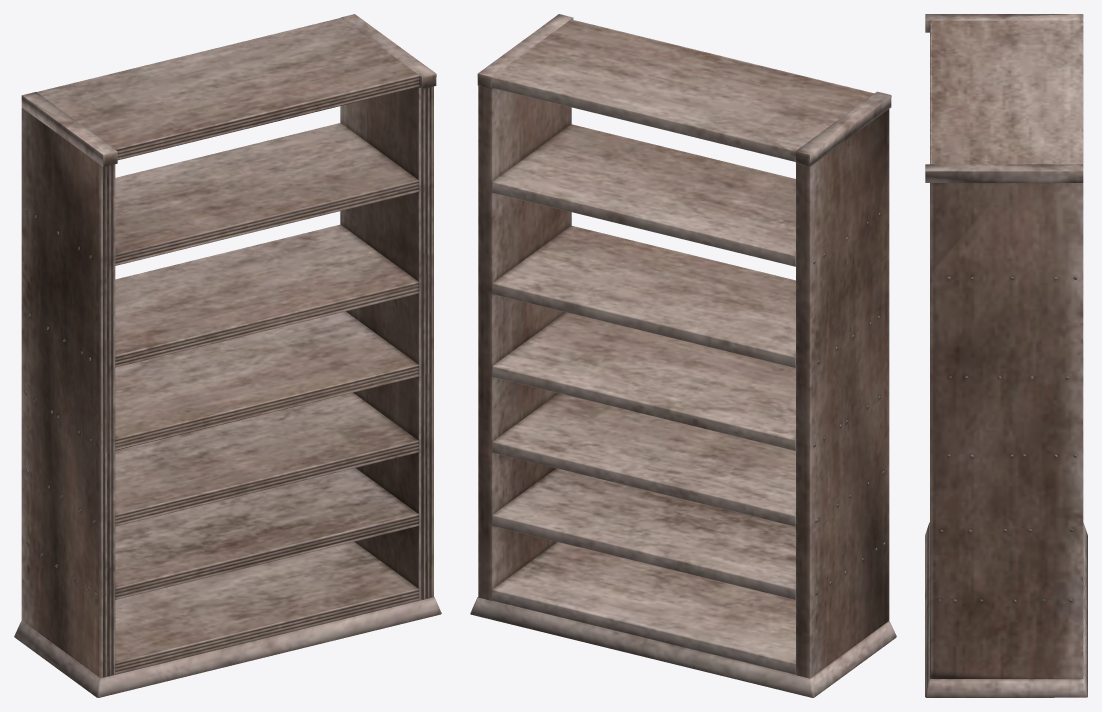
File: wooden_bookshelf_worn.lite.glb
The picture shows the model from 3 angles, left to right: view 1: azimuth 30°, elevation 25°; view 2: azimuth 150°, elevation 25°; view 3: azimuth 270°, elevation 25°; orthographic projection. The views are drawn at different scales.
Visible parts, largest first — view 1: wooden_bookshelf_worn; view 2: wooden_bookshelf_worn; view 3: wooden_bookshelf_worn.
Boxes of the visible parts, box(x1,y1,x2,y2) form: wooden_bookshelf_worn: box(14, 14, 441, 697); wooden_bookshelf_worn: box(470, 14, 896, 697); wooden_bookshelf_worn: box(925, 14, 1087, 697).
Size of the model in its own units: 1.37 by 2.06 by 0.5814.
Materials: 1 (1 with a texture image).
